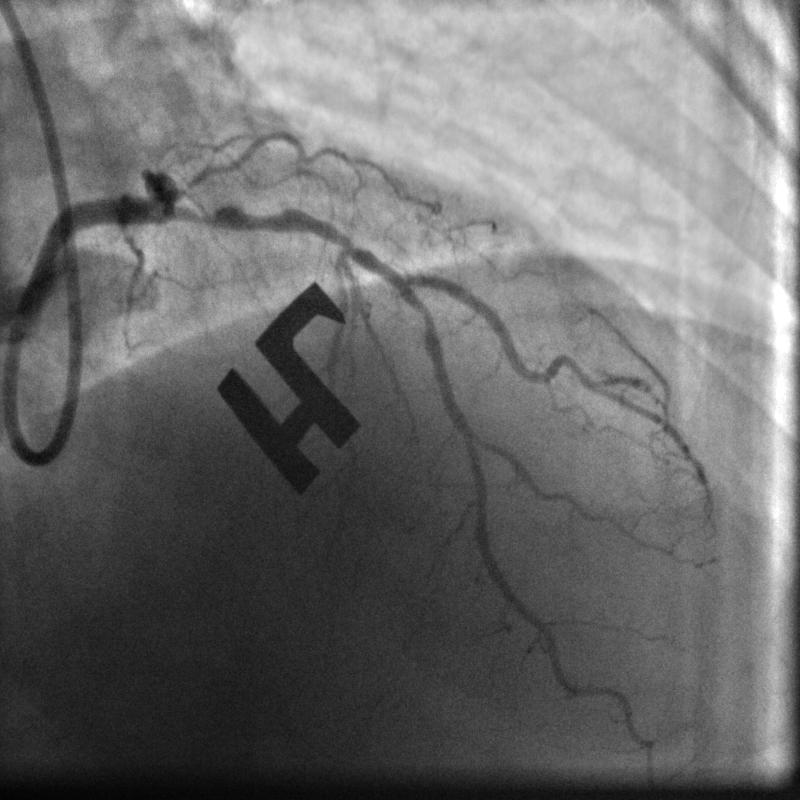Stenosis: (183, 187, 291, 227)
